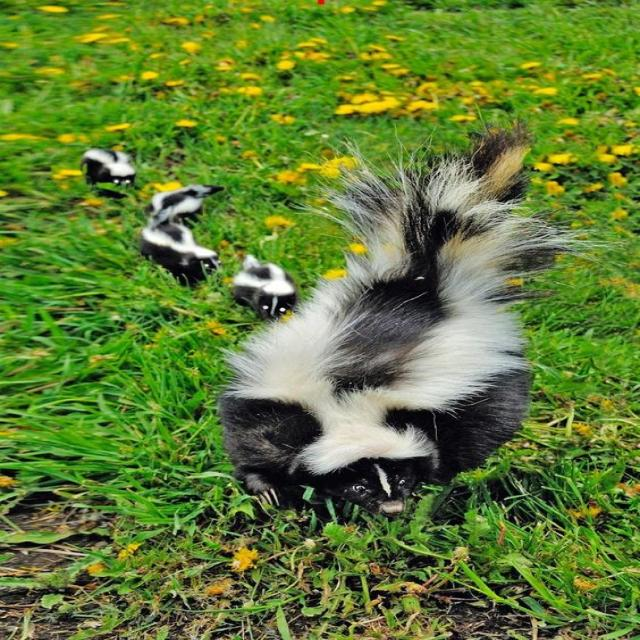Skunk: (190, 124, 576, 513)
